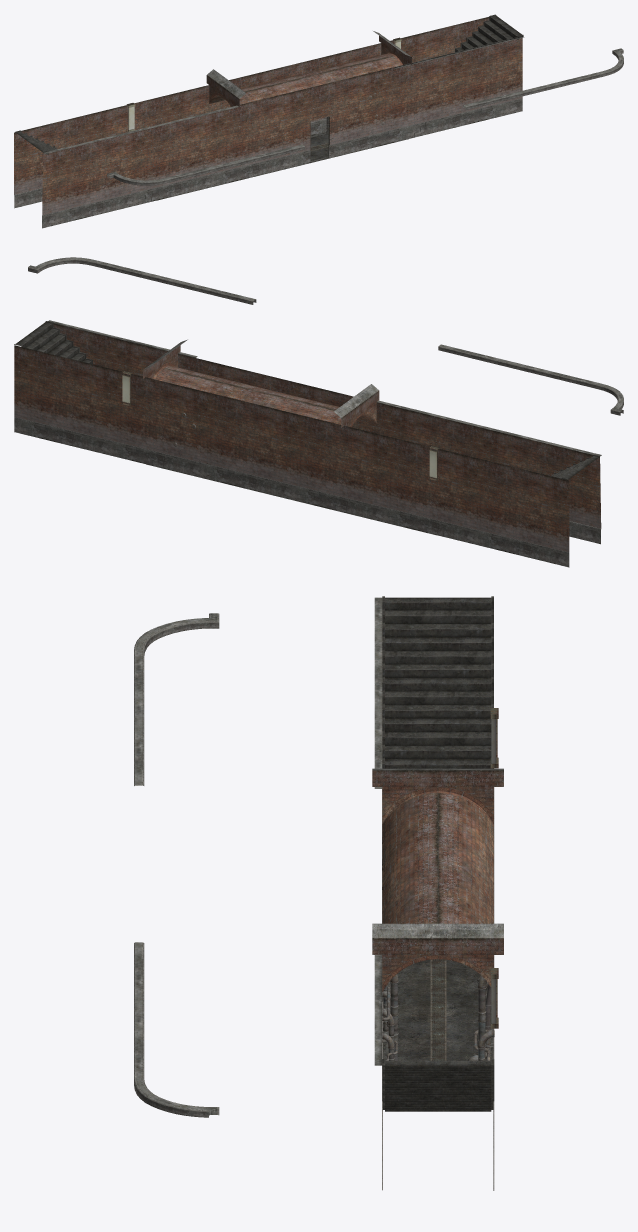
The model's file is sm301_01_201room_01.fbx.
3 views of the same model, one above another, from view 1: azimuth 30°, elevation 25°; view 2: azimuth 150°, elevation 25°; view 3: azimuth 270°, elevation 25° (orthographic). The views are drawn at different scales.
Visible parts, largest first — view 1: 0000_st42010Terrain00ms_1_Group_0_Sub_1__st1_townBuild04_Mat, 0031_st42010Terrain00ms_1_Group_0_Sub_28__st1_townStairs00_M, 0032_st42010Terrain00ms_1_Group_0_Sub_29__Unrain__st1_t_ad31; view 2: 0000_st42010Terrain00ms_1_Group_0_Sub_1__st1_townBuild04_Mat, 0031_st42010Terrain00ms_1_Group_0_Sub_28__st1_townStairs00_M, 0104_sm35016FluorescentLight01A00ms_1_Group_1_Sub_1__sm_a191; view 3: 0000_st42010Terrain00ms_1_Group_0_Sub_1__st1_townBuild04_Mat, 0031_st42010Terrain00ms_1_Group_0_Sub_28__st1_townStairs00_M, 0032_st42010Terrain00ms_1_Group_0_Sub_29__Unrain__st1_t_ad31, 0017_st42010Terrain00ms_1_Group_0_Sub_18__st2_police1fL_7670, 0036_st42010Terrain00ms_1_Group_0_Sub_33__st3_policeUnd_5b65.
Part boxes in pixels (x1,y1,x2,y2): 0000_st42010Terrain00ms_1_Group_0_Sub_1__st1_townBuild04_Mat: (14, 17, 623, 228); 0031_st42010Terrain00ms_1_Group_0_Sub_28__st1_townStairs00_M: (15, 14, 523, 201); 0032_st42010Terrain00ms_1_Group_0_Sub_29__Unrain__st1_t_ad31: (240, 132, 408, 180); 0000_st42010Terrain00ms_1_Group_0_Sub_1__st1_townBuild04_Mat: (14, 257, 623, 567); 0031_st42010Terrain00ms_1_Group_0_Sub_28__st1_townStairs00_M: (14, 321, 599, 536); 0104_sm35016FluorescentLight01A00ms_1_Group_1_Sub_1__sm_a191: (122, 371, 438, 480); 0000_st42010Terrain00ms_1_Group_0_Sub_1__st1_townBuild04_Mat: (134, 597, 503, 1190); 0031_st42010Terrain00ms_1_Group_0_Sub_28__st1_townStairs00_M: (382, 596, 494, 1111); 0032_st42010Terrain00ms_1_Group_0_Sub_29__Unrain__st1_t_ad31: (383, 959, 493, 1060); 0017_st42010Terrain00ms_1_Group_0_Sub_18__st2_police1fL_7670: (382, 837, 494, 1060); 0036_st42010Terrain00ms_1_Group_0_Sub_33__st3_policeUnd_5b65: (430, 959, 446, 1060).
Bounding box in the file's own units: 28.31 × 4.56 × 8.43.
